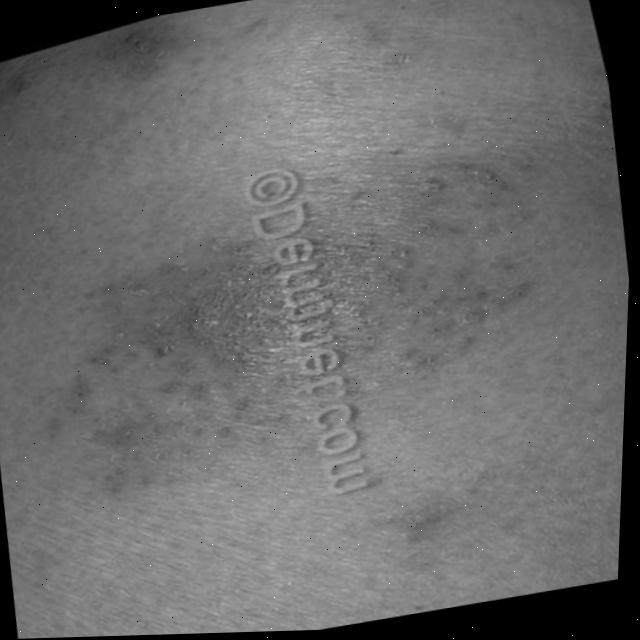Eczema: (54, 209, 466, 485)
